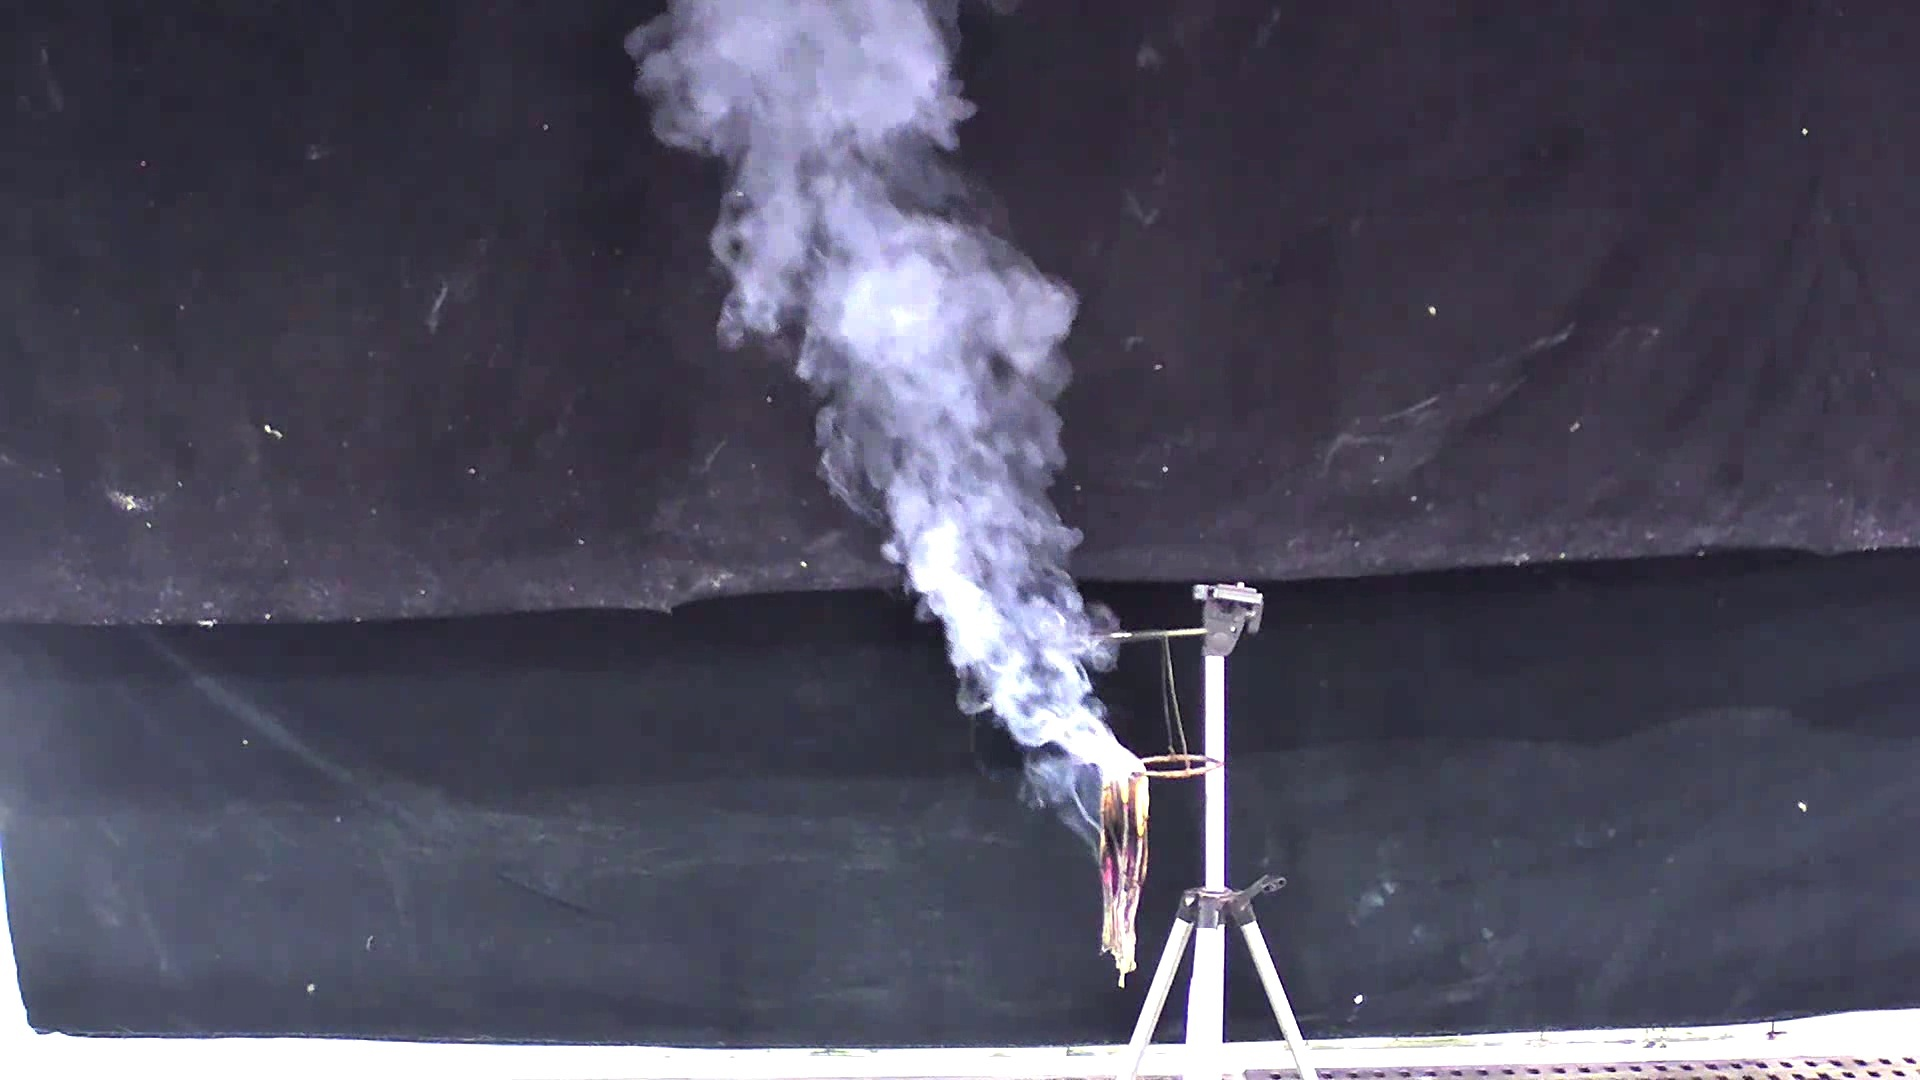smoke: (633, 7, 1163, 829)
